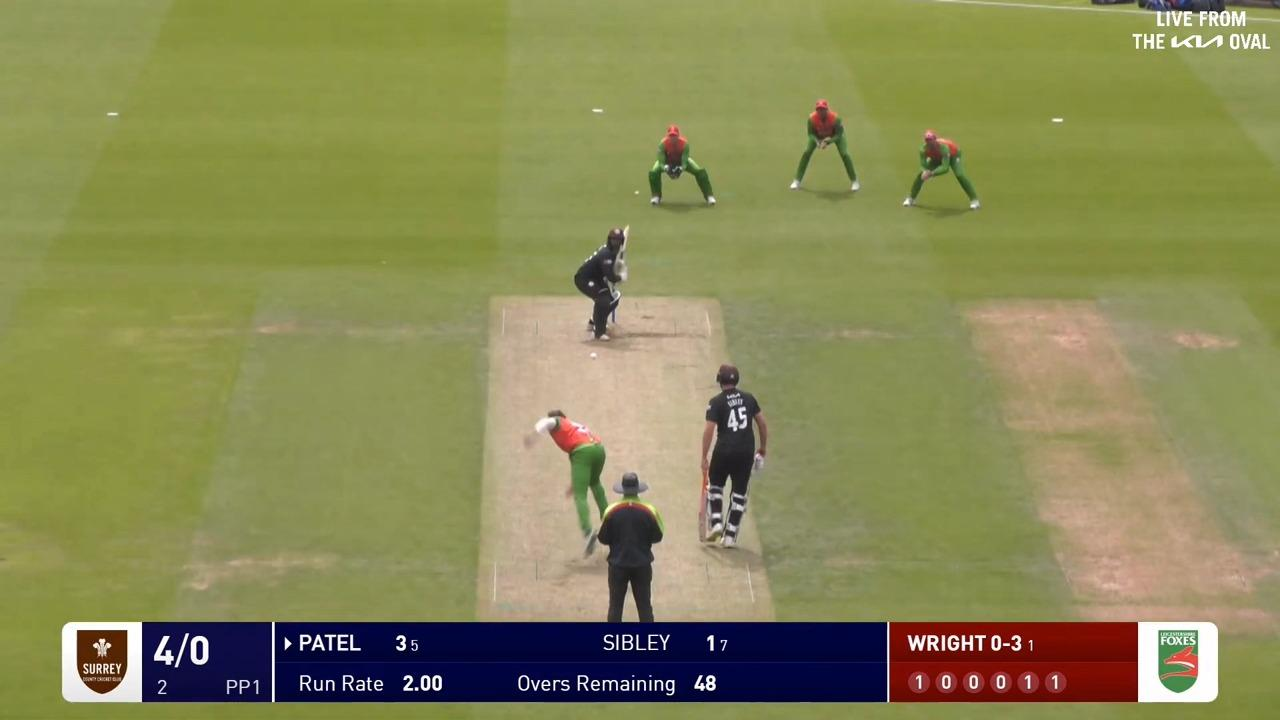sports ball: (590, 353, 597, 358)
